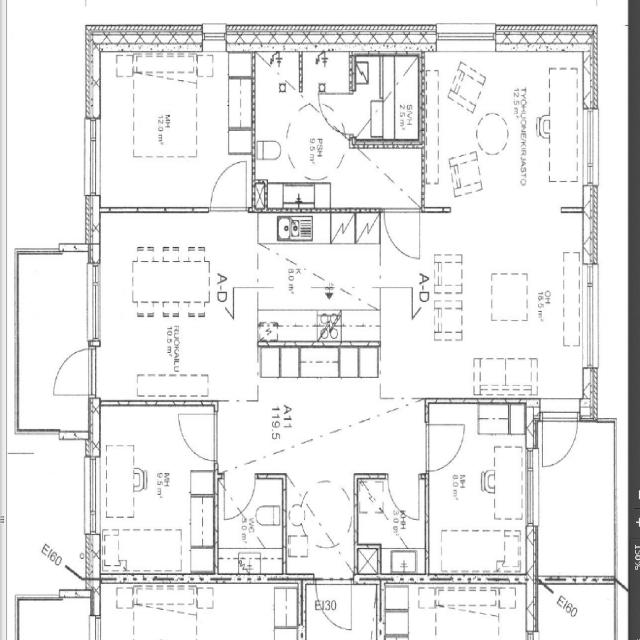door: (49, 348, 100, 395), (543, 400, 577, 464), (315, 574, 352, 630), (177, 414, 218, 461), (210, 162, 246, 212), (424, 425, 464, 470), (385, 207, 419, 256), (318, 94, 357, 134), (223, 473, 254, 517), (387, 474, 418, 518)
